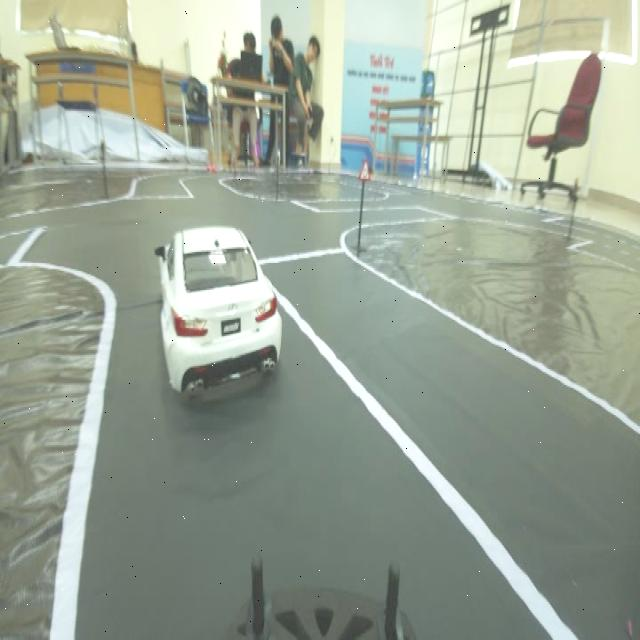car: (149, 225, 303, 386)
